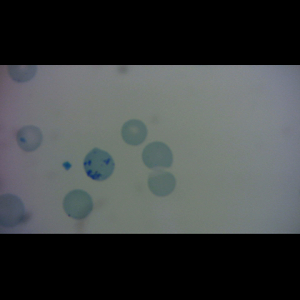aggregate reticulocyte: (83, 148, 115, 181)
erythrocyte: (142, 141, 174, 173), (144, 170, 177, 198), (14, 125, 43, 153), (121, 119, 148, 147)
punctate reticulocyte: (62, 188, 94, 220)
